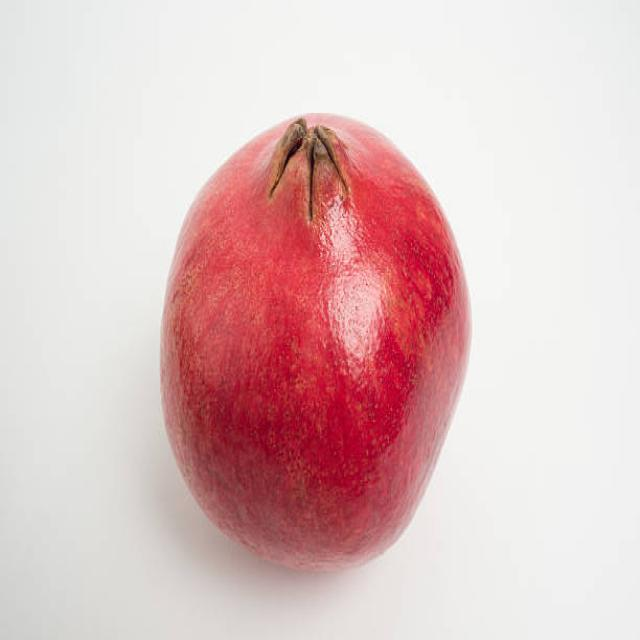Ripe: (157, 105, 477, 560)
